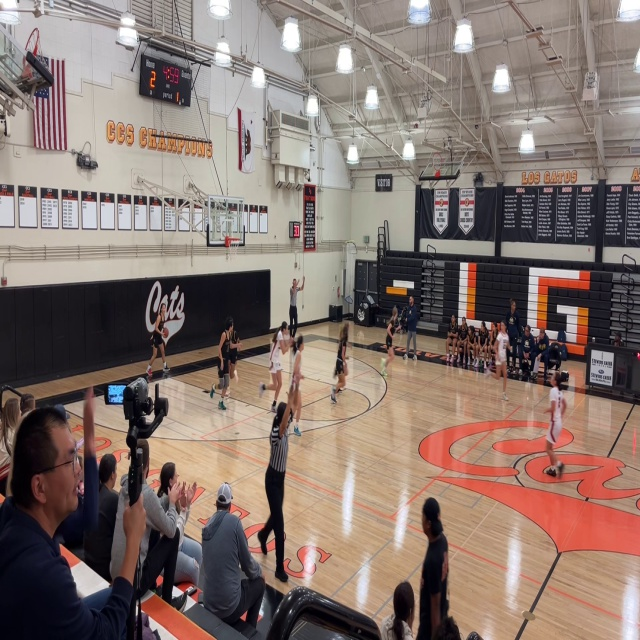Basketball: (161, 328, 169, 339)
